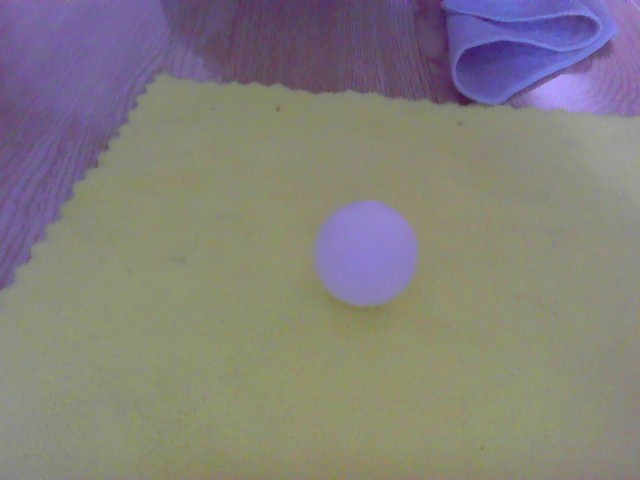ball: (319, 203, 419, 303)
